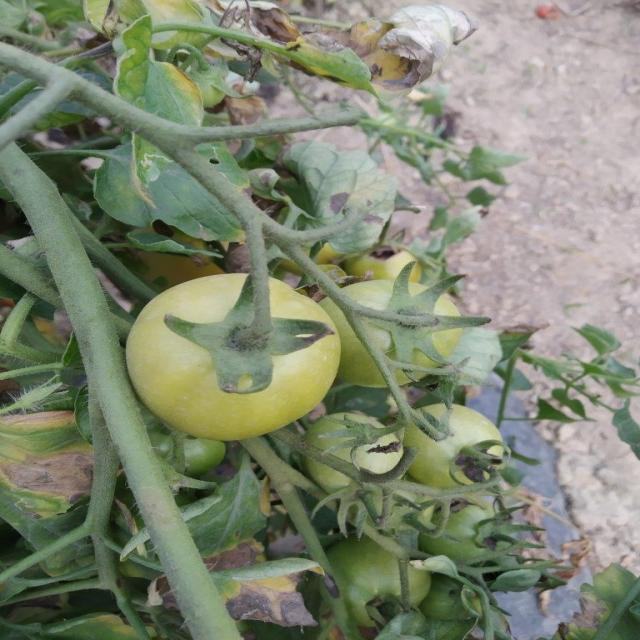Unripe: (123, 272, 340, 440)
